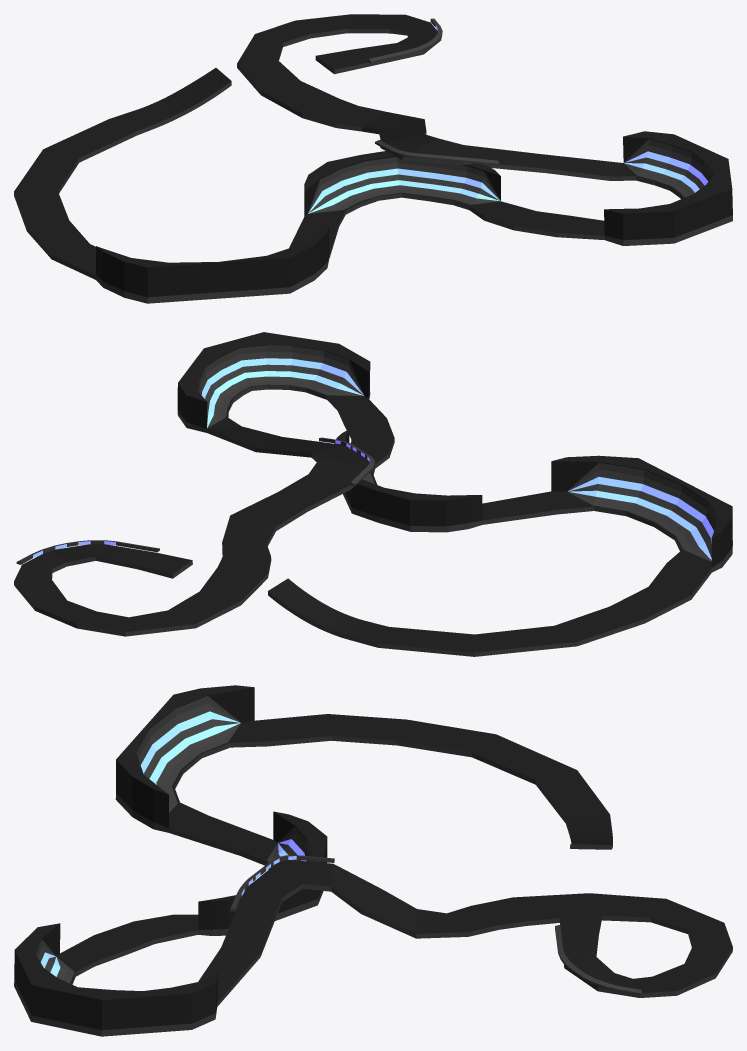
File: RaceTrackTest6.fbx
3 views of the same model, one above another, from view 1: azimuth 30°, elevation 25°; view 2: azimuth 150°, elevation 25°; view 3: azimuth 270°, elevation 25° (orthographic). The views are drawn at different scales.
Parts seen in each view (by area): view 1: MainTrack, GuardRail2, GuardRail1; view 2: MainTrack, GuardRail1; view 3: MainTrack, GuardRail1, GuardRail2.
Part boxes in pixels (x1=…): MainTrack: x1=14, y1=14, x2=732, y2=303; GuardRail2: x1=375, y1=140, x2=499, y2=165; GuardRail1: x1=368, y1=18, x2=442, y2=63; MainTrack: x1=14, y1=332, x2=732, y2=656; GuardRail1: x1=16, y1=540, x2=159, y2=564; MainTrack: x1=14, y1=685, x2=732, y2=1036; GuardRail1: x1=555, y1=925, x2=641, y2=995; GuardRail2: x1=230, y1=855, x2=334, y2=912.
Bounding box in the file's own units: 282 × 19.33 × 269.
